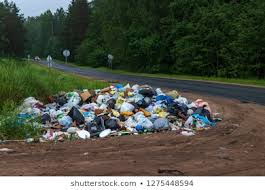garbage: (26, 98, 212, 137), (62, 89, 185, 133), (105, 85, 167, 136)
